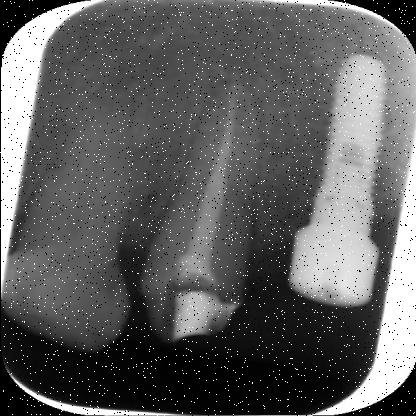Bego: (318, 52, 380, 230)
